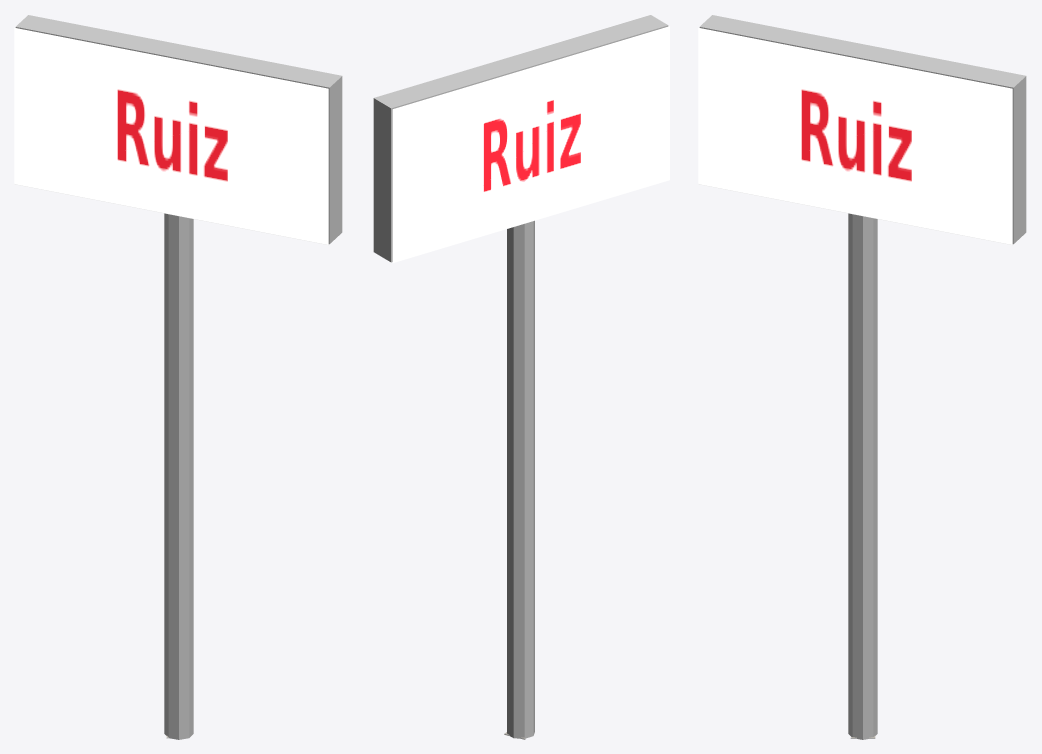
File: ruiz_sign.glb
3 renders of one model, left to right at view 1: azimuth 90°, elevation 25°; view 2: azimuth 150°, elevation 25°; view 3: azimuth 270°, elevation 25°, orthographic.
Parts seen in each view (by area): view 1: ruiz_sign_lod0; view 2: ruiz_sign_lod0; view 3: ruiz_sign_lod0.
Boxes of the visible parts, x1=… form: ruiz_sign_lod0: x1=14, y1=15, x2=342, y2=739; ruiz_sign_lod0: x1=373, y1=15, x2=669, y2=739; ruiz_sign_lod0: x1=698, y1=15, x2=1026, y2=739.
Size of what is drawn, in the model's own units: 1.43 by 6.1 by 2.67.
Materials: 5 (1 with a texture image).
